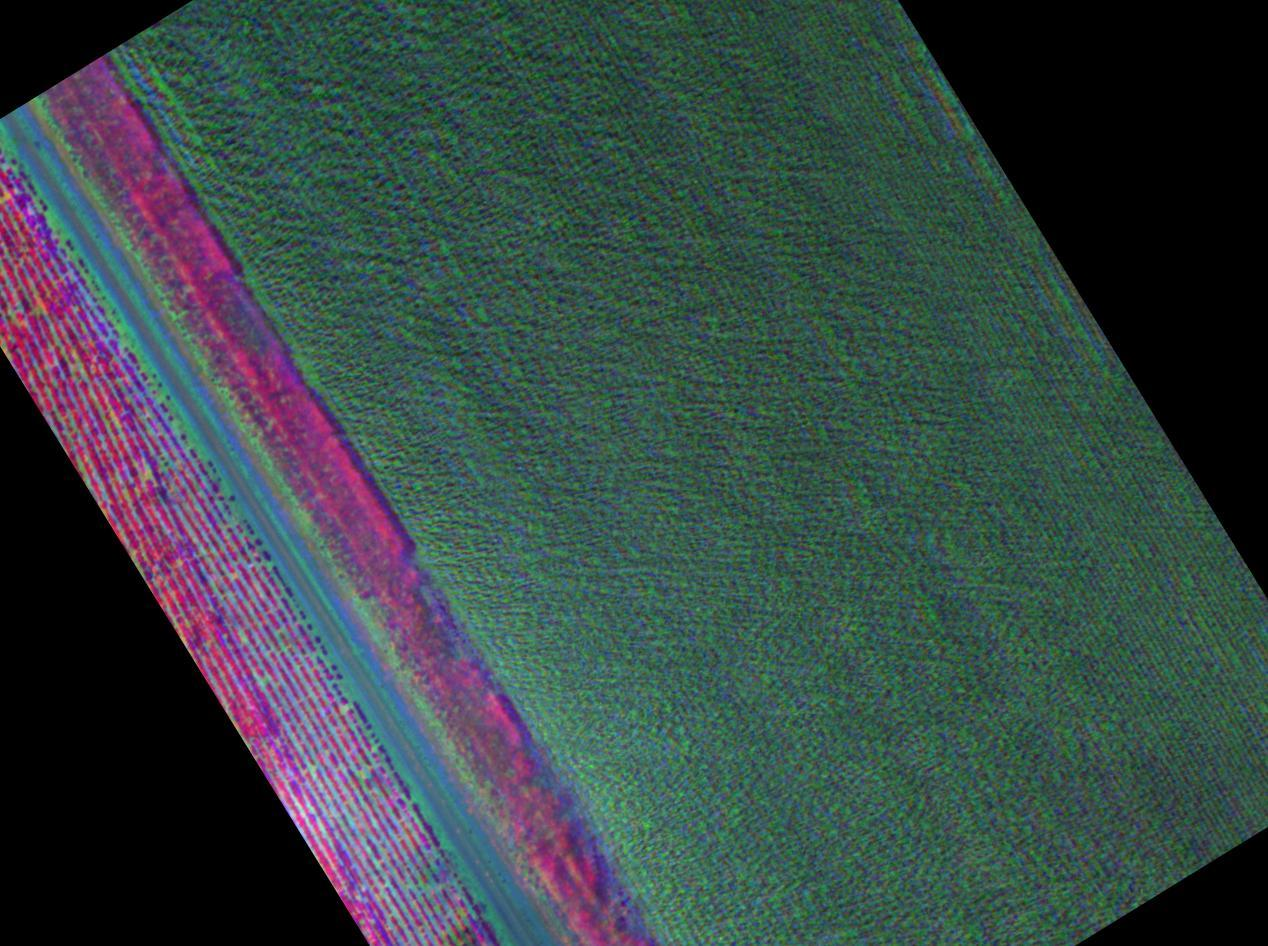dc: (427, 882, 534, 946)
